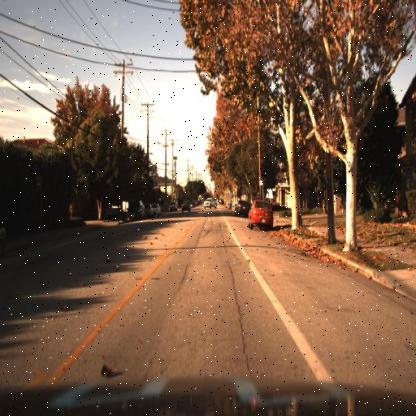car: (243, 195, 275, 233), (248, 197, 276, 230), (124, 194, 147, 220), (200, 192, 222, 216), (124, 198, 144, 224), (233, 198, 250, 219), (180, 199, 190, 215), (144, 202, 153, 217), (168, 200, 178, 212), (153, 203, 161, 217)
